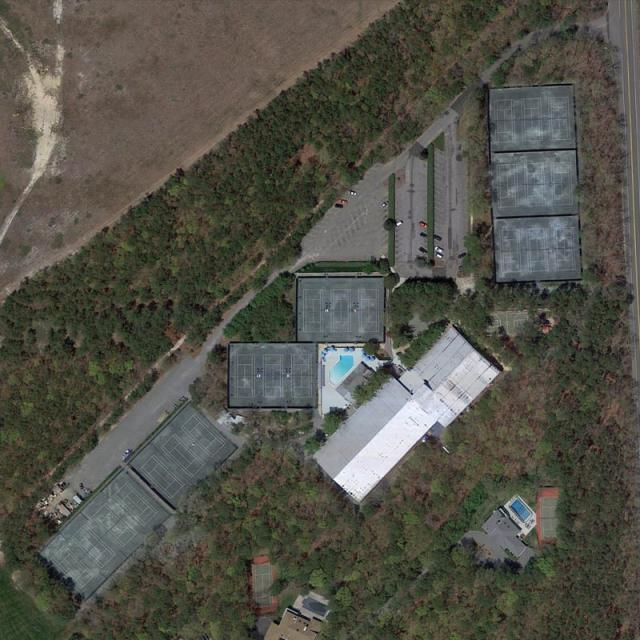vehicle: (418, 246, 426, 254), (458, 251, 467, 258), (433, 234, 442, 241), (380, 201, 389, 208), (348, 190, 358, 196), (334, 203, 344, 209), (435, 246, 442, 253), (419, 221, 427, 227), (419, 232, 427, 238), (435, 253, 443, 259), (338, 199, 347, 204), (397, 221, 402, 226)
